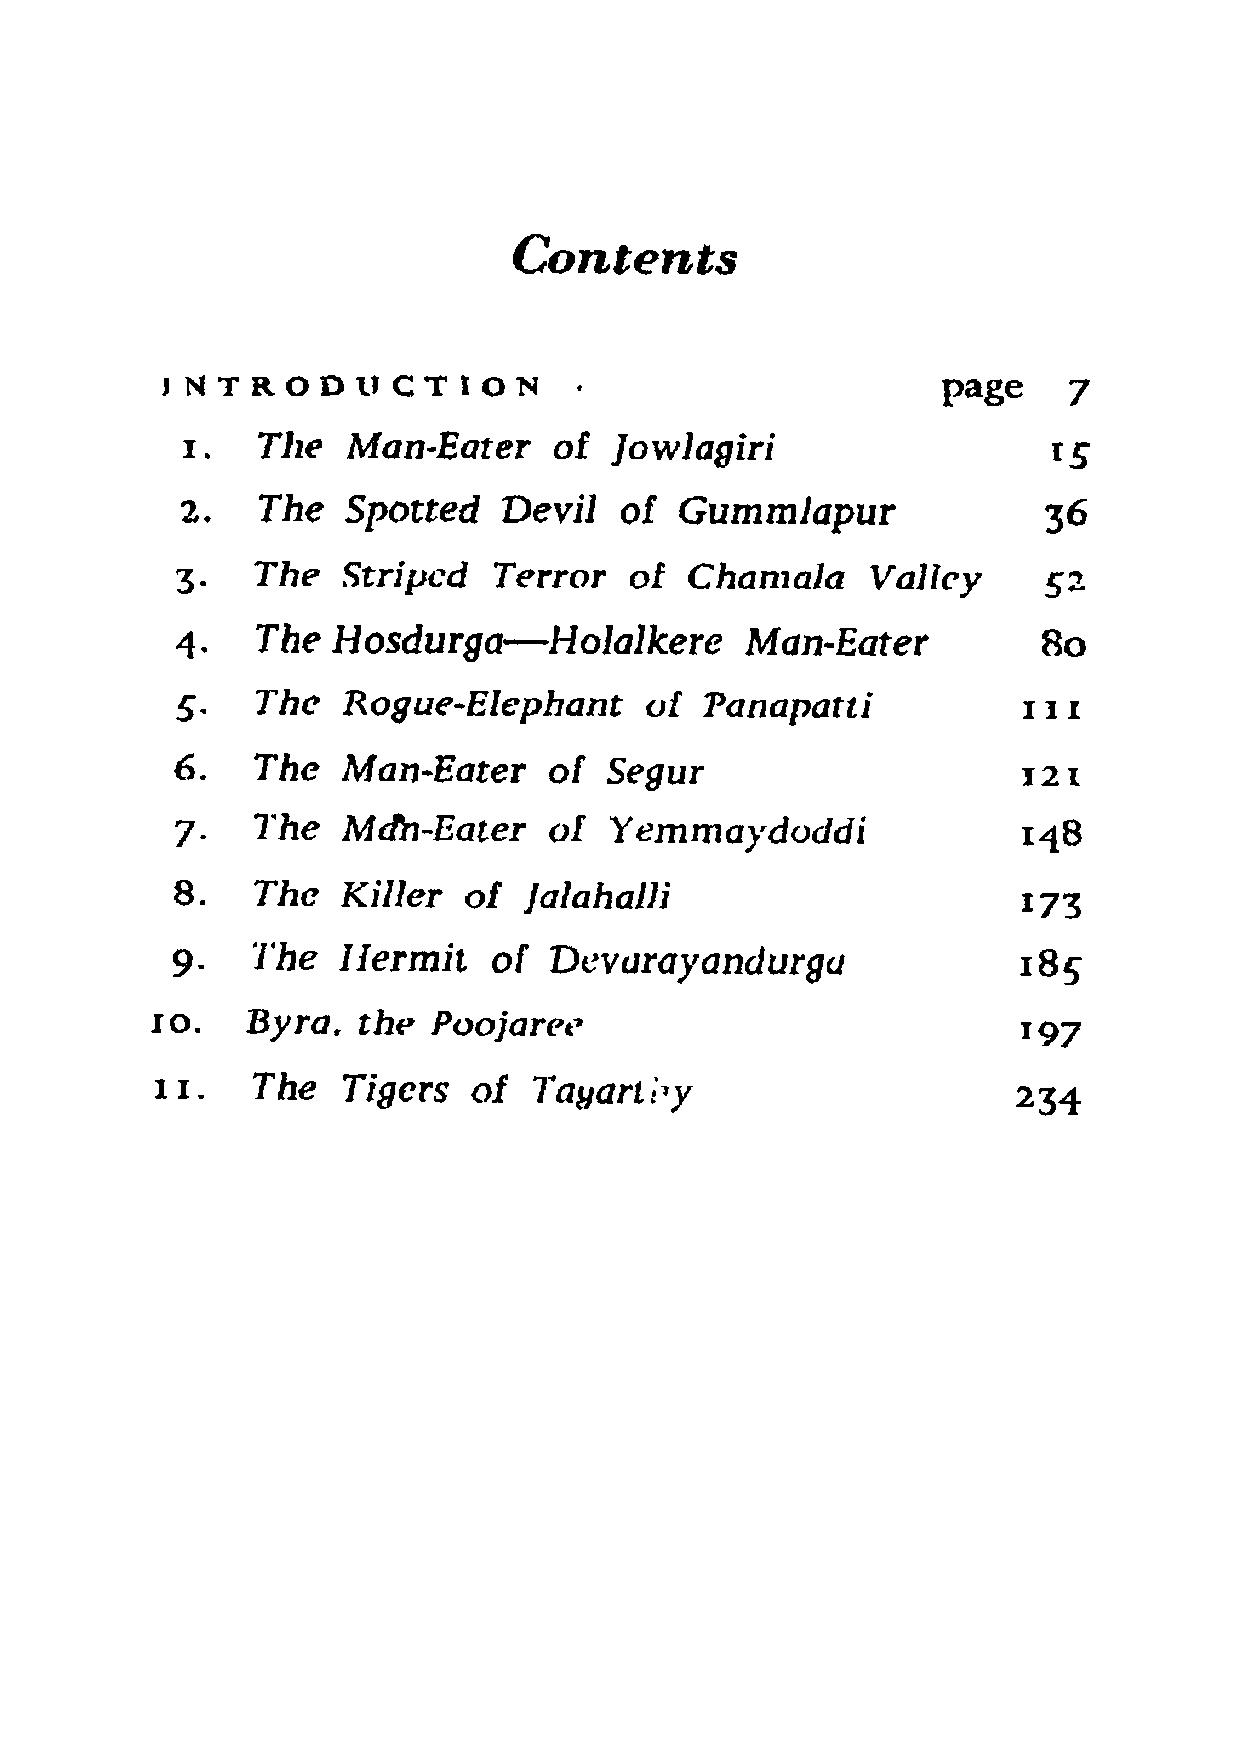TOC_chapter: (178, 486, 905, 531), (169, 556, 984, 596), (168, 807, 874, 852), (170, 939, 849, 986), (174, 620, 925, 662), (173, 682, 878, 725), (172, 738, 713, 790), (149, 1070, 692, 1118), (176, 427, 776, 464), (168, 876, 687, 915), (144, 1005, 600, 1041), (157, 369, 544, 399)
TOC_pagenumber: (1015, 939, 1082, 986), (1012, 1012, 1090, 1052), (1011, 1083, 1088, 1123), (1015, 880, 1083, 923), (1021, 752, 1080, 789), (1021, 819, 1082, 854), (1044, 493, 1088, 535), (1037, 621, 1084, 659), (1020, 695, 1084, 721), (1047, 437, 1086, 471), (1044, 562, 1076, 603), (1060, 370, 1088, 409)
chapter: (509, 225, 743, 279)
